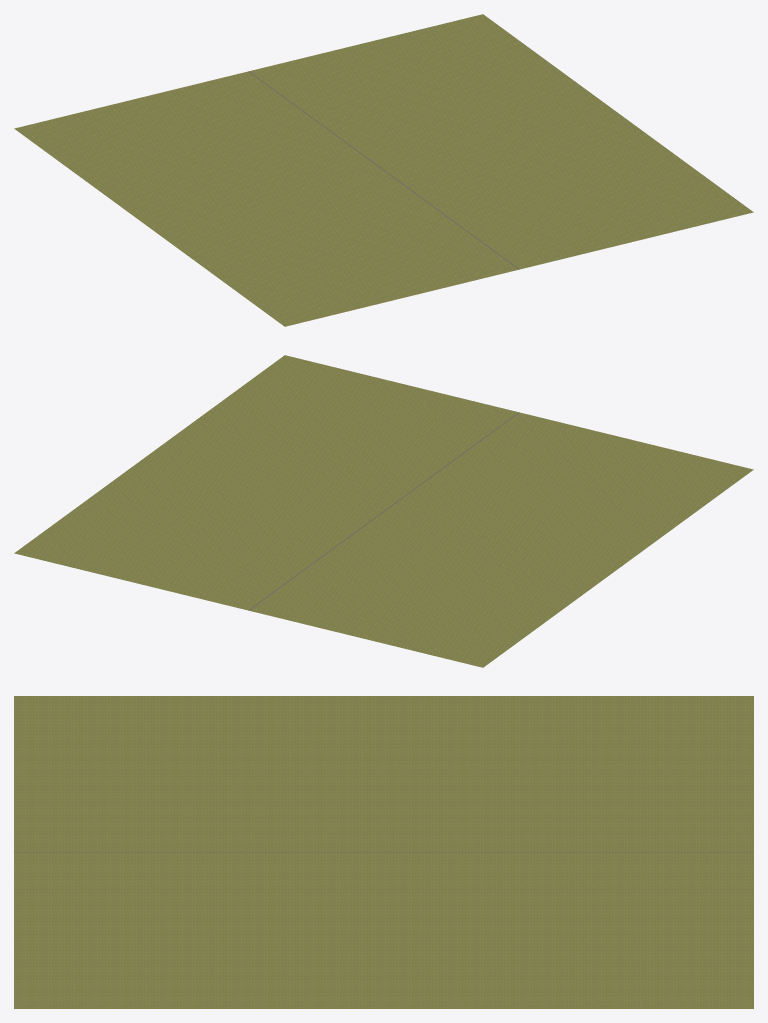
The model's file is playback.obj.
3 views of the same model, one above another, from view 1: azimuth 30°, elevation 25°; view 2: azimuth 150°, elevation 25°; view 3: azimuth 270°, elevation 25° (orthographic). The views are drawn at different scales.
Parts seen in each view (by area): view 1: Ground_Plane.001; view 2: Ground_Plane.001; view 3: Ground_Plane.001, MotorwayNear_Plane.004.
Boxes of the visible parts, box(x1,y1,x2,y2) form: Ground_Plane.001: box(14, 14, 753, 326); Ground_Plane.001: box(14, 355, 753, 667); Ground_Plane.001: box(14, 696, 753, 1008); MotorwayNear_Plane.004: box(14, 852, 753, 852).
Bounding box in the file's own units: 5000 × 0.1 × 5000.
